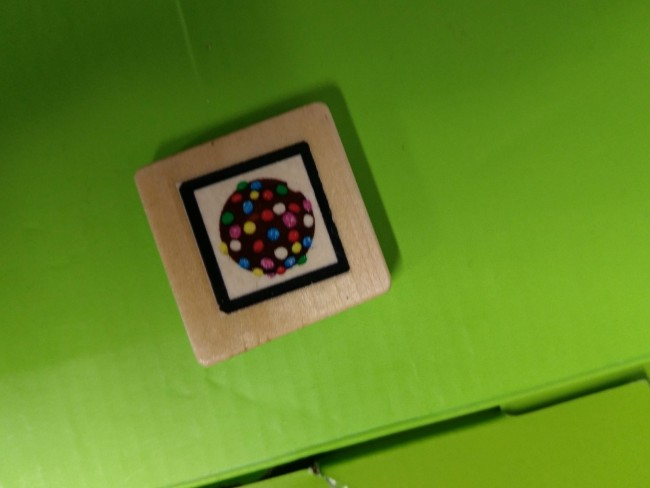cookie: (180, 150, 352, 296)
